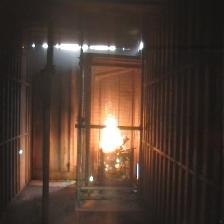fire: (90, 104, 133, 165)
